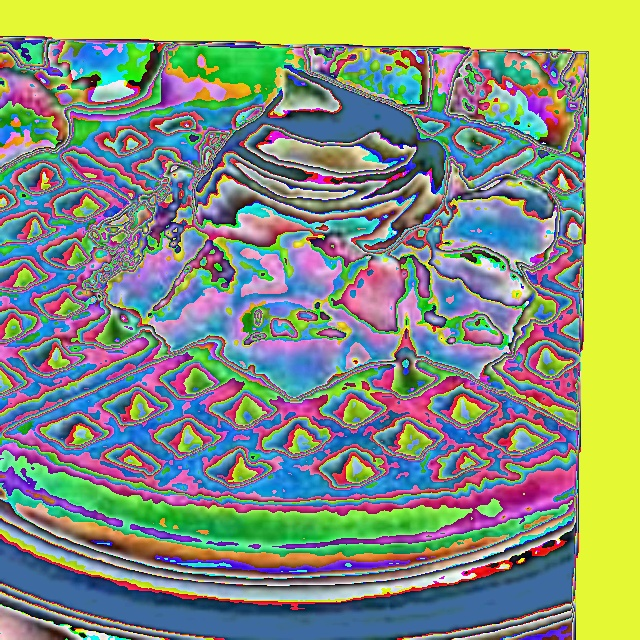background: (0, 40, 588, 569)
